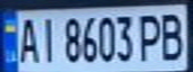0: (97, 12, 118, 64)
3: (115, 11, 139, 63)
6: (78, 13, 100, 64)
8: (60, 13, 81, 64)
A: (15, 15, 42, 64)
B: (157, 8, 190, 62)
I: (36, 13, 60, 64)
P: (136, 10, 166, 62)
